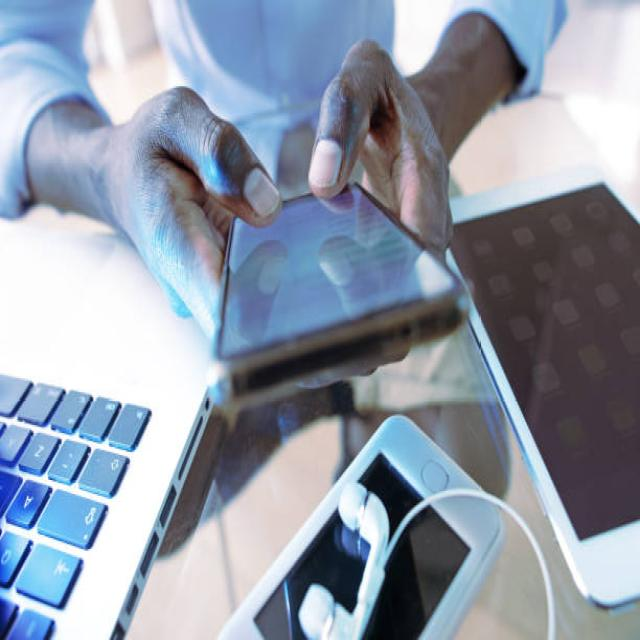Earphone: (298, 482, 555, 640)
